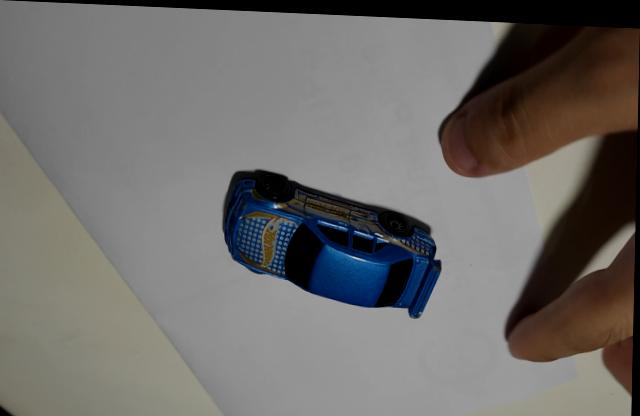04_MERZEDES: (223, 165, 443, 314)
